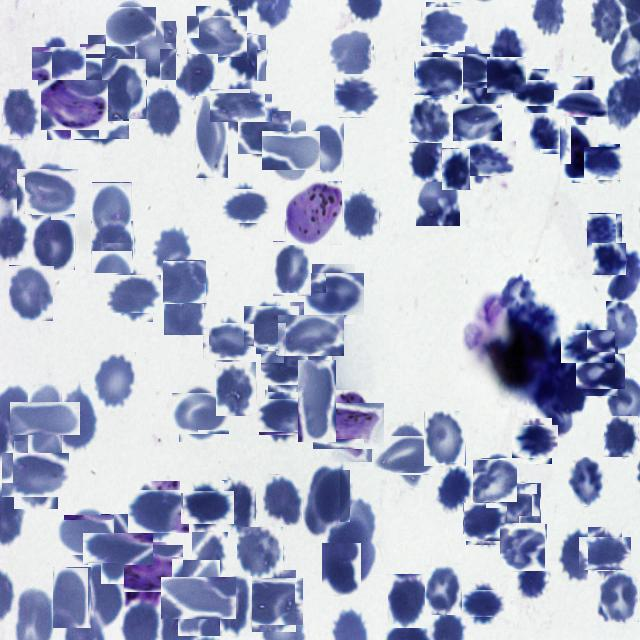difficult: (42, 75, 103, 135), (116, 538, 176, 598), (320, 396, 378, 456)
red blood cell: (170, 568, 228, 628), (8, 447, 64, 503), (298, 360, 336, 442), (244, 574, 300, 628), (284, 308, 338, 362), (381, 428, 434, 482), (21, 164, 74, 218), (102, 58, 147, 119), (308, 268, 360, 320), (132, 486, 184, 538), (84, 39, 136, 91), (19, 392, 71, 444), (92, 523, 144, 575), (196, 96, 228, 178), (8, 265, 54, 321), (192, 11, 242, 62), (135, 20, 177, 80), (58, 387, 96, 453), (75, 93, 125, 143), (92, 182, 132, 243), (94, 352, 136, 410), (304, 467, 340, 534), (32, 214, 75, 270), (267, 126, 316, 175), (176, 388, 224, 438), (416, 172, 460, 226), (240, 108, 288, 157), (424, 410, 466, 466), (237, 527, 283, 578), (53, 567, 91, 628), (62, 512, 110, 560), (449, 98, 497, 146), (247, 302, 295, 350), (217, 81, 265, 129), (88, 563, 124, 627), (560, 124, 599, 183), (214, 576, 252, 636), (91, 220, 134, 273), (408, 98, 453, 148), (110, 272, 158, 318), (496, 484, 540, 534), (597, 570, 639, 622), (499, 524, 546, 570), (216, 362, 256, 416), (273, 241, 312, 296), (164, 282, 204, 335), (260, 394, 306, 440), (329, 30, 375, 76), (466, 136, 512, 182), (388, 574, 427, 628), (306, 122, 344, 177), (206, 319, 252, 364), (263, 474, 303, 525), (322, 543, 361, 595), (109, 4, 154, 49), (568, 456, 608, 506), (416, 54, 461, 98), (423, 5, 468, 49), (334, 73, 378, 118), (37, 41, 81, 86), (145, 88, 182, 141), (192, 532, 228, 586), (447, 50, 491, 94), (185, 486, 229, 530), (472, 458, 516, 502), (566, 324, 610, 368), (151, 226, 191, 274), (315, 469, 351, 522), (3, 89, 41, 139), (435, 463, 471, 515), (425, 565, 462, 615), (176, 54, 218, 98), (164, 260, 206, 304), (222, 480, 256, 534), (229, 34, 267, 82), (226, 185, 268, 228), (606, 301, 640, 354), (344, 190, 380, 240), (561, 531, 597, 581), (464, 502, 506, 544), (584, 532, 626, 574), (580, 350, 622, 392), (560, 83, 602, 124), (264, 348, 306, 388), (515, 421, 555, 461), (490, 29, 525, 72), (604, 416, 639, 458), (518, 74, 556, 112), (488, 56, 526, 94), (409, 142, 443, 182), (530, 112, 561, 154), (586, 146, 622, 182), (517, 562, 548, 603), (465, 586, 501, 621), (442, 148, 471, 190), (588, 214, 622, 248), (592, 243, 626, 275)
trophozoite: (286, 181, 342, 245)
